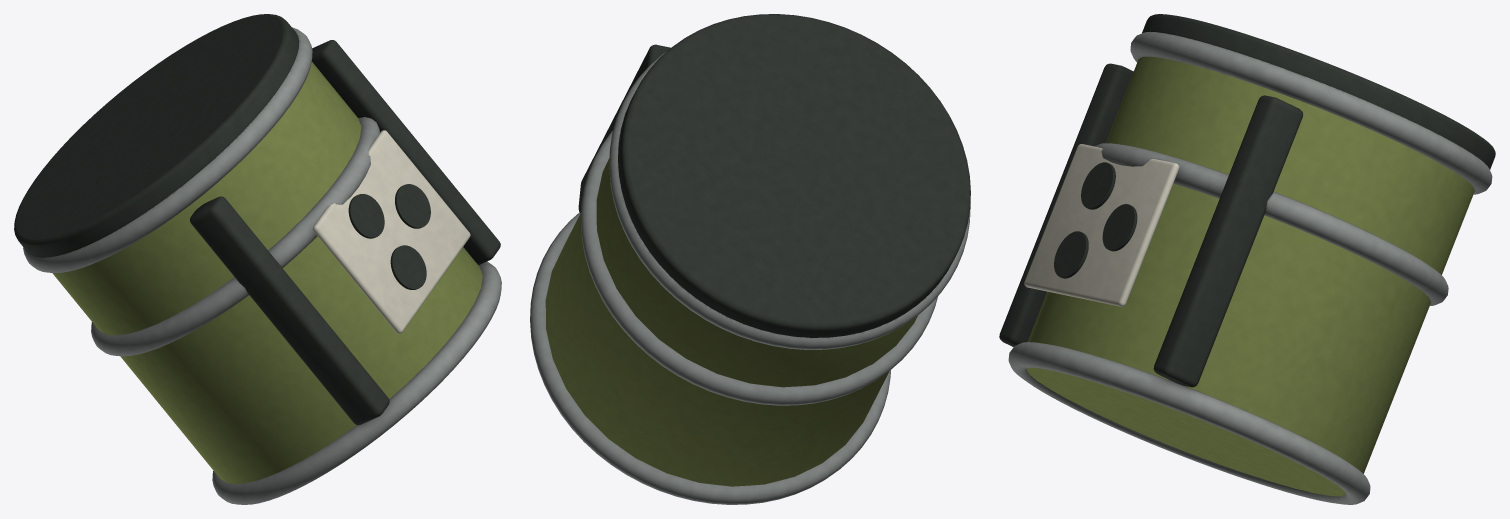
3 views of the same model, side by side, from view 1: azimuth 30°, elevation 25°; view 2: azimuth 150°, elevation 25°; view 3: azimuth 270°, elevation 25° (orthographic). The views are drawn at different scales.
Visible parts, largest first — view 1: Waste containment drum; view 2: Waste containment drum; view 3: Waste containment drum.
Part boxes in pixels (x1,y1,x2,y2): Waste containment drum: (14, 14, 501, 504); Waste containment drum: (530, 14, 970, 504); Waste containment drum: (999, 14, 1495, 504).
Bounding box in the file's own units: 1.19 × 1.22 × 1.15.
1 material, 1 textured.
